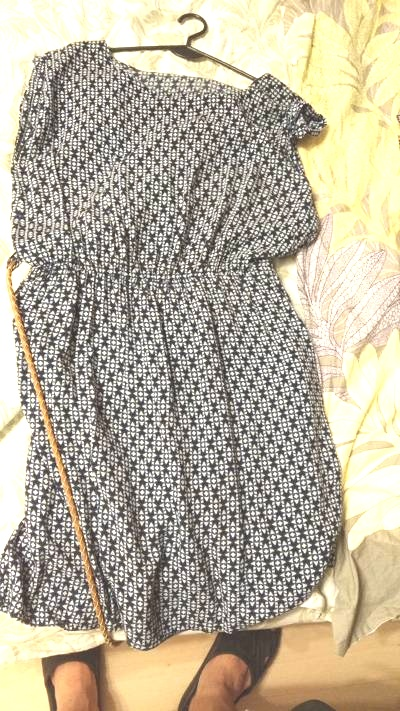Dress: (1, 31, 356, 655)
